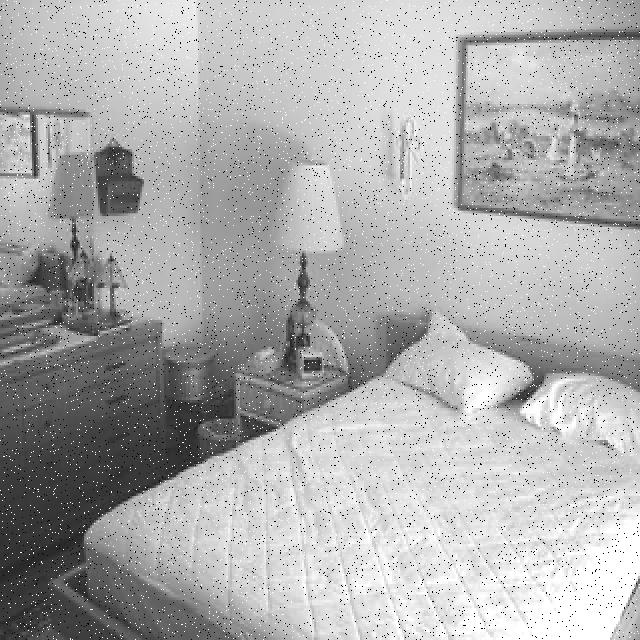bed: (79, 307, 640, 640)
